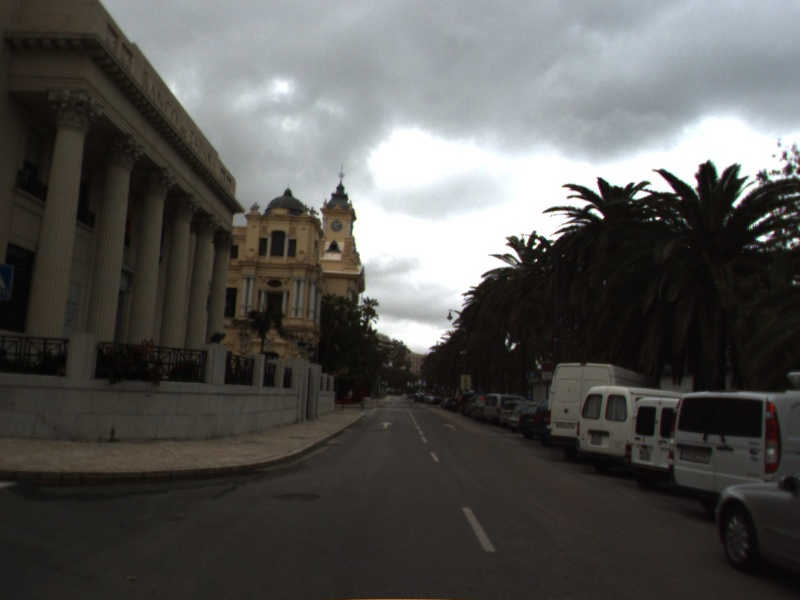STRAIGHT: (442, 421, 458, 432), (379, 420, 394, 430)
